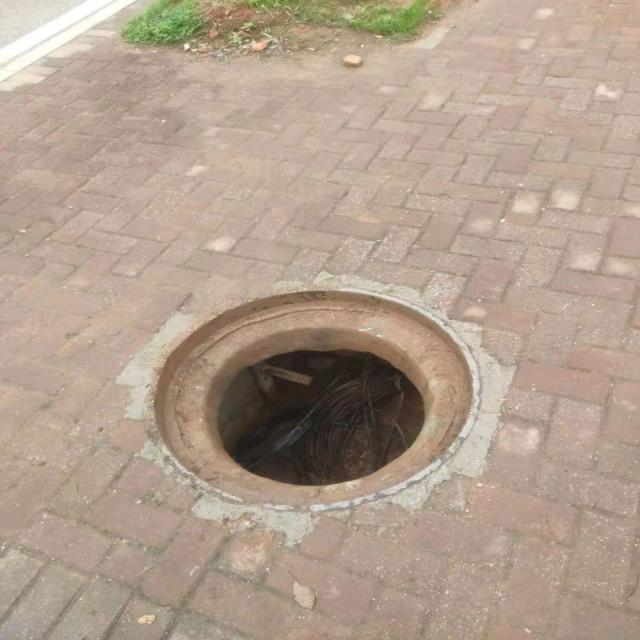Faulty: (145, 286, 482, 513)
